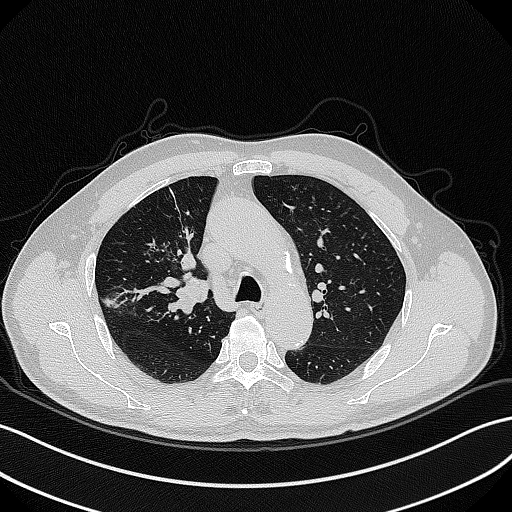nodule: (100, 296, 120, 308)
